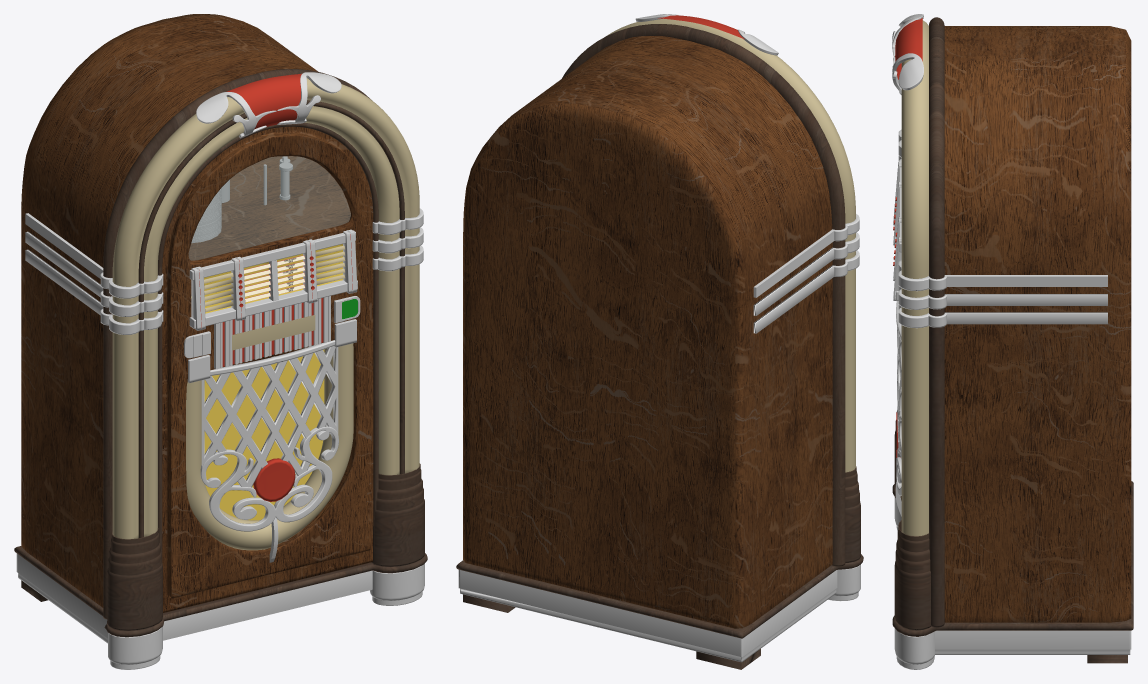
File: jukebox-v3.glb
3 renders of one model, left to right at view 1: azimuth 30°, elevation 25°; view 2: azimuth 150°, elevation 25°; view 3: azimuth 270°, elevation 25°, orthographic. The views are drawn at different scales.
Parts seen in each view (by area): view 1: jukebox_outer, Object_14, Object_13, Object_11, metal, glass, metal.003, gold_plate, Object_12, red_details, metal.002, metal.001 (+1 smaller); view 2: jukebox_outer, Object_13, Object_12, Object_14, metal.003, Object_11, metal.001, metal.002; view 3: jukebox_outer, Object_13, Object_14, Object_11, Object_12, metal.001, metal.003, metal.002, red_details, metal.
Part boxes in pixels (bbox=[...]): jukebox_outer: bbox=[21, 14, 373, 612]; Object_14: bbox=[112, 78, 419, 550]; Object_13: bbox=[14, 69, 427, 637]; Object_11: bbox=[25, 72, 423, 640]; metal: bbox=[196, 206, 338, 531]; glass: bbox=[188, 156, 350, 260]; metal.003: bbox=[25, 92, 423, 562]; gold_plate: bbox=[191, 244, 342, 520]; Object_12: bbox=[16, 195, 357, 643]; red_details: bbox=[199, 73, 353, 501]; metal.002: bbox=[108, 319, 424, 669]; metal.001: bbox=[25, 213, 103, 278]; jukebox_outer: bbox=[463, 36, 832, 628]; Object_13: bbox=[456, 24, 863, 669]; Object_12: bbox=[458, 569, 837, 662]; Object_14: bbox=[605, 18, 855, 472]; metal.003: bbox=[738, 29, 859, 315]; Object_11: bbox=[635, 14, 834, 333]; metal.001: bbox=[753, 229, 834, 297]; metal.002: bbox=[828, 564, 860, 601]; jukebox_outer: bbox=[944, 26, 1131, 622]; Object_13: bbox=[892, 17, 1133, 663]; Object_14: bbox=[901, 20, 928, 536]; Object_11: bbox=[892, 53, 1107, 341]; Object_12: bbox=[893, 162, 1131, 654]; metal.001: bbox=[944, 275, 1107, 286]; metal.003: bbox=[892, 14, 946, 516]; metal.002: bbox=[894, 497, 934, 669]; red_details: bbox=[895, 18, 922, 457]; metal: bbox=[896, 327, 901, 495].
Bounding box in the file's own units: 92.05 × 152 × 59.56.
15 materials, 9 textured.
